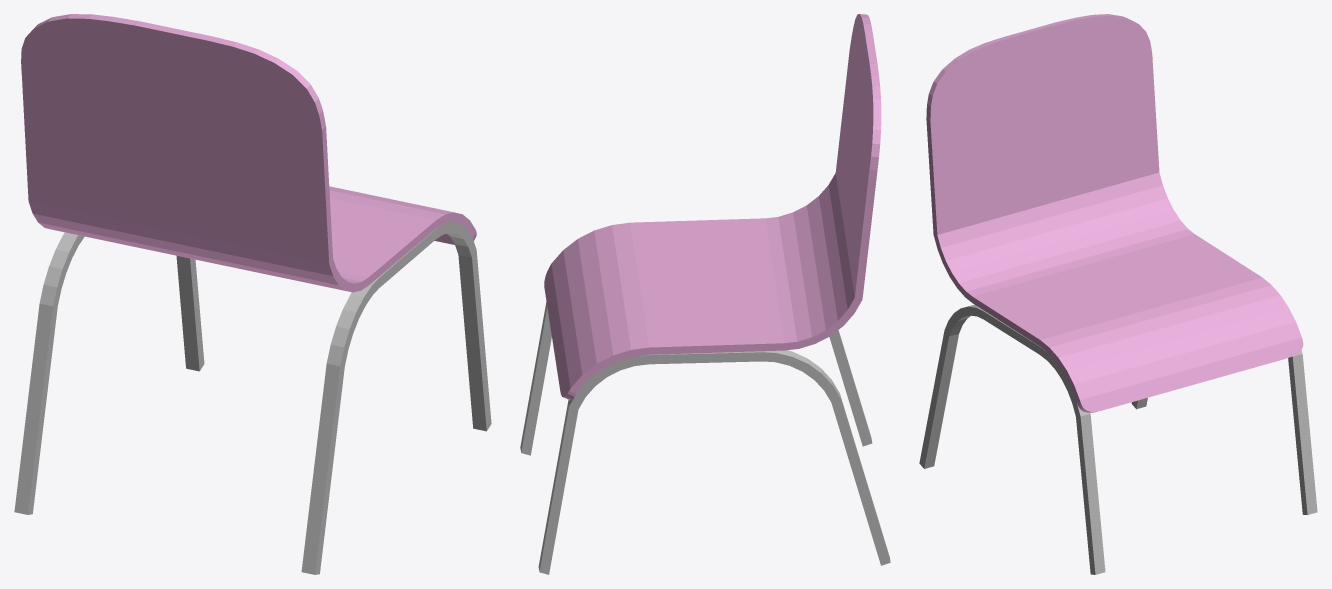
Rendered from CafeChair.fbx.
3 views of the same model, side by side, from view 1: azimuth 30°, elevation 25°; view 2: azimuth 150°, elevation 25°; view 3: azimuth 270°, elevation 25° (orthographic). The views are drawn at different scales.
Visible parts, largest first — view 1: CafeChair; view 2: CafeChair; view 3: CafeChair.
Boxes of the visible parts, <box> form: CafeChair: <box>14,14,491,574</box>; CafeChair: <box>520,14,890,574</box>; CafeChair: <box>919,14,1317,574</box>.
Bounding box in the file's own units: 0.00591 × 0.00647 × 0.00571.
